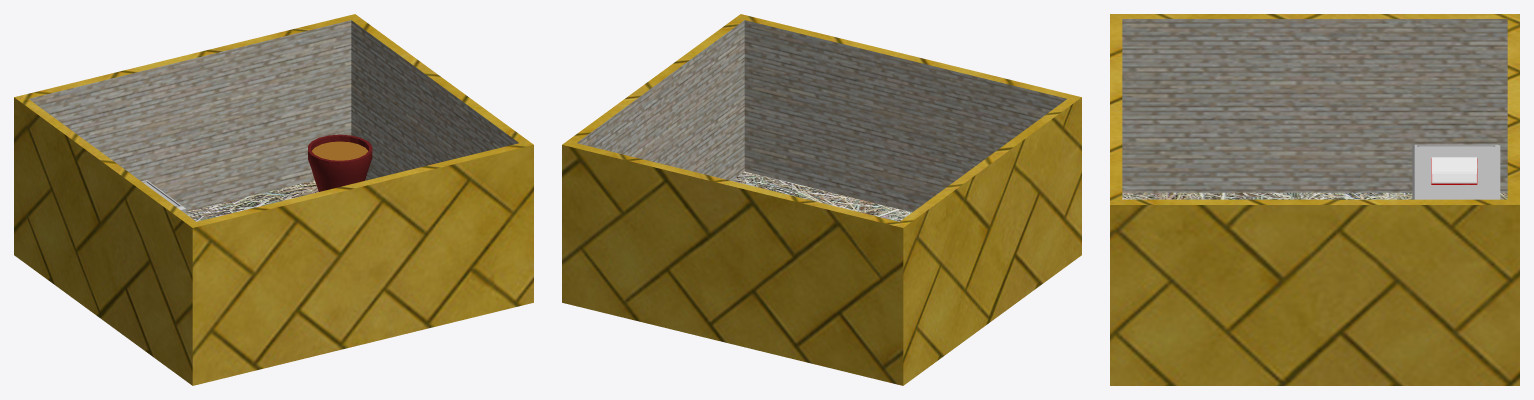
The model's file is saveroom.FBX.
3 views of the same model, side by side, from view 1: azimuth 30°, elevation 25°; view 2: azimuth 150°, elevation 25°; view 3: azimuth 270°, elevation 25° (orthographic). The views are drawn at different scales.
Visible parts, largest first — view 1: room, kabin; view 2: room; view 3: room, Box013, book.
Boxes of the visible parts, x1,y1,x2,y2 form: room: (14,14,533,385); kabin: (308,134,372,191); room: (562,14,1081,385); room: (1110,14,1519,385); Box013: (1412,144,1500,199); book: (1431,157,1477,184).
Size of the model in its own units: 115 by 51.06 by 105.
